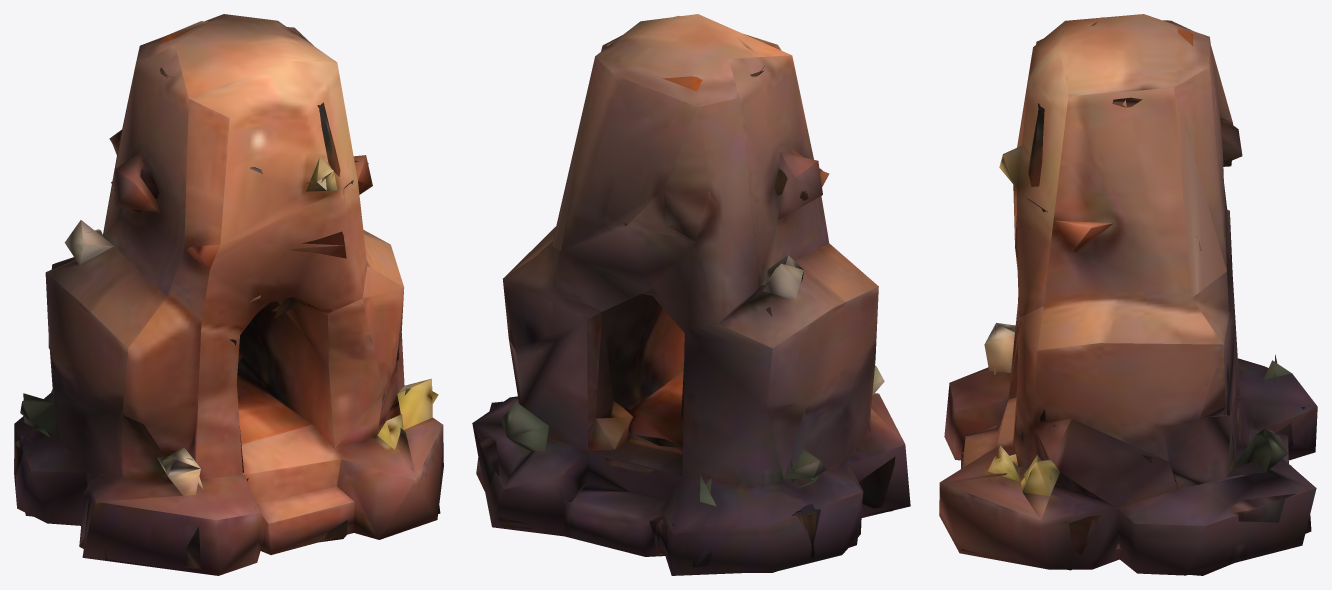
File: lg-sea-cave-rock.glb
The picture shows the model from 3 angles, left to right: view 1: azimuth 30°, elevation 25°; view 2: azimuth 150°, elevation 25°; view 3: azimuth 270°, elevation 25°; orthographic projection.
Visible parts, largest first — view 1: geometry_0; view 2: geometry_0; view 3: geometry_0.
Part boxes in pixels (<box>): geometry_0: <box>14,14,443,575</box>; geometry_0: <box>472,14,910,575</box>; geometry_0: <box>939,14,1317,575</box>.
Bounding box in the file's own units: 0.8606 × 1 × 0.7534.
Materials: 1 (1 with a texture image).
